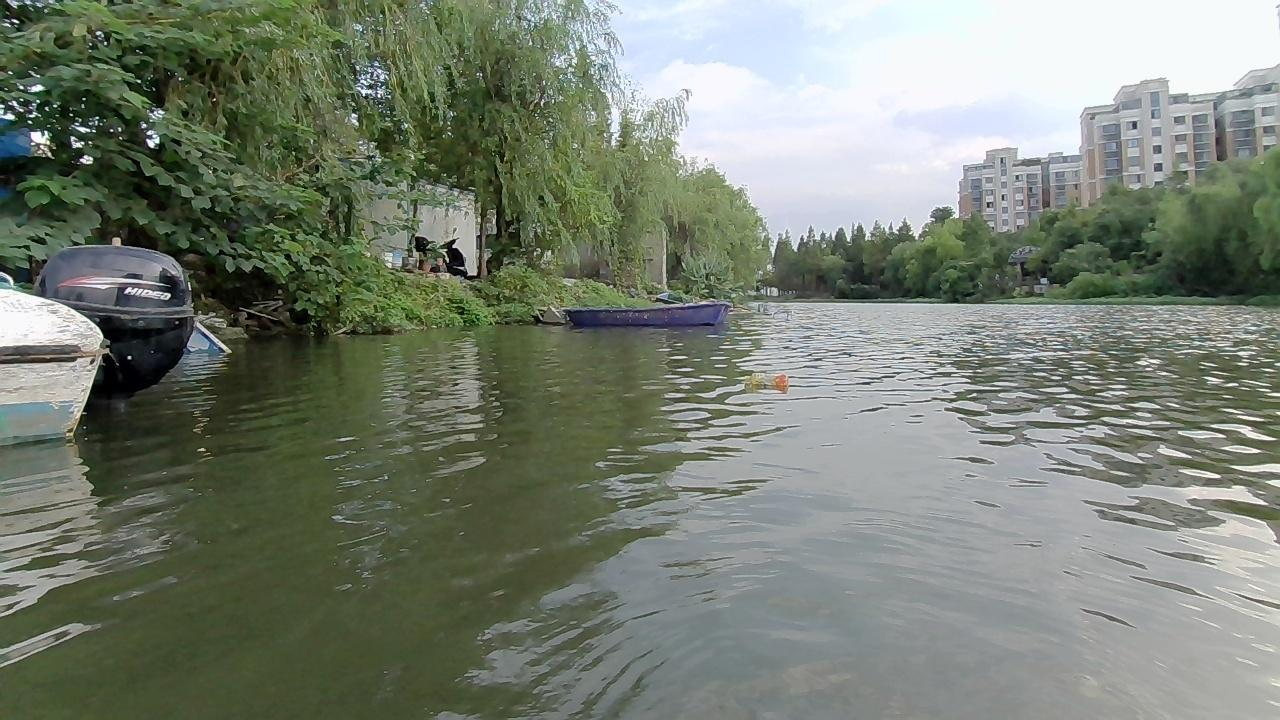bottle: (735, 367, 791, 393)
